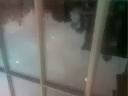window: (0, 6, 28, 96), (35, 41, 58, 59), (37, 84, 66, 96), (85, 91, 100, 96), (84, 64, 91, 69)
